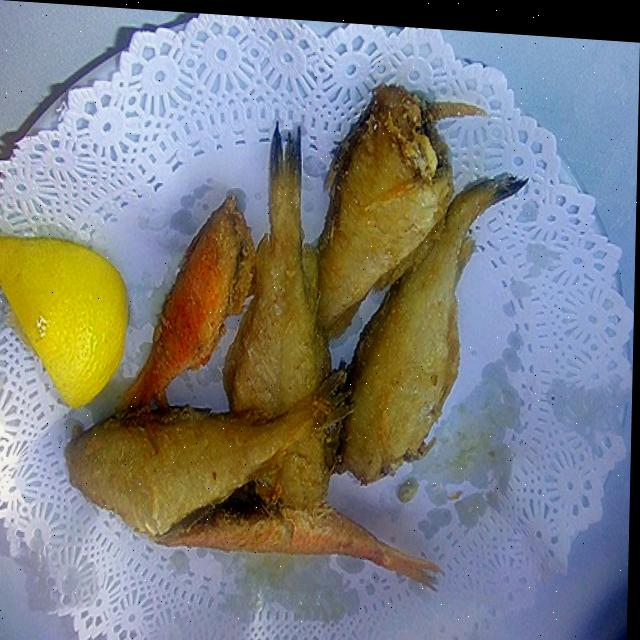炸货点心: (82, 82, 517, 583)
熟制海鲜: (82, 82, 517, 583)
